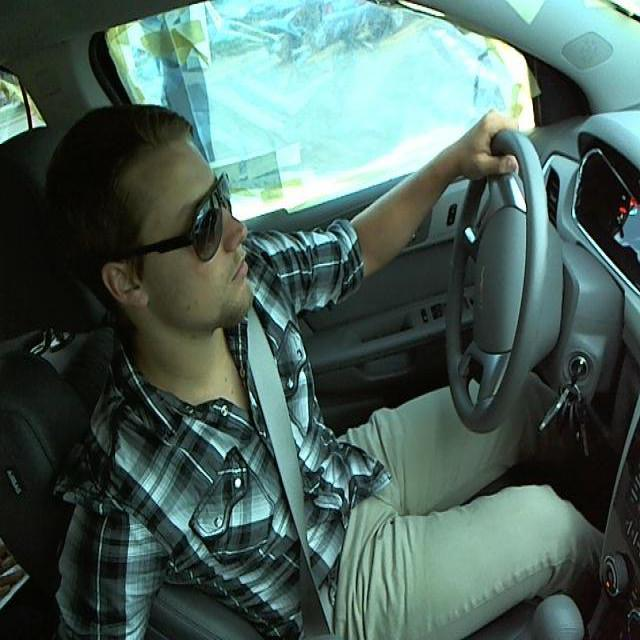seatbelt: (241, 309, 326, 556)
